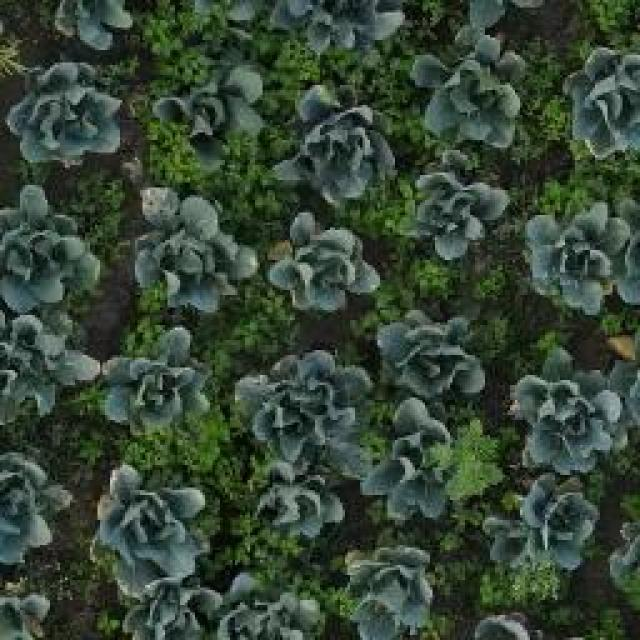cabbage: (233, 356, 365, 473), (136, 196, 255, 313), (273, 92, 395, 201), (0, 180, 103, 308), (88, 465, 198, 583), (412, 30, 522, 148), (366, 400, 474, 517), (514, 374, 640, 473), (7, 70, 129, 168), (104, 327, 210, 434), (371, 308, 489, 403), (271, 210, 378, 314), (526, 208, 630, 312), (157, 72, 265, 166), (0, 306, 99, 408), (493, 481, 597, 574), (244, 461, 350, 549), (342, 543, 440, 637), (403, 168, 509, 254), (0, 446, 67, 565), (567, 47, 640, 154), (221, 574, 327, 640), (125, 576, 217, 640)
